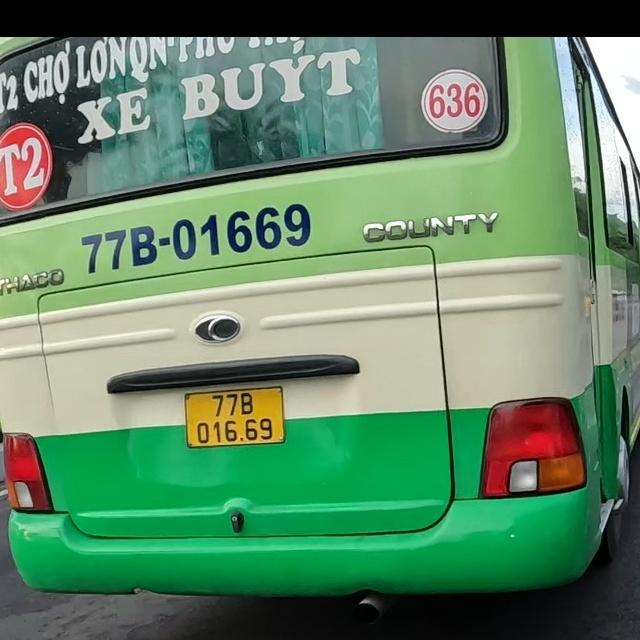license-plate: (184, 386, 286, 449)
